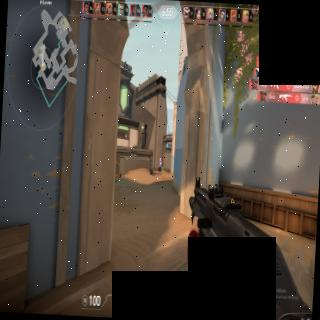ENEMY-BODY: (158, 157, 162, 176)
ENEMY-HEAD: (160, 158, 162, 160)
